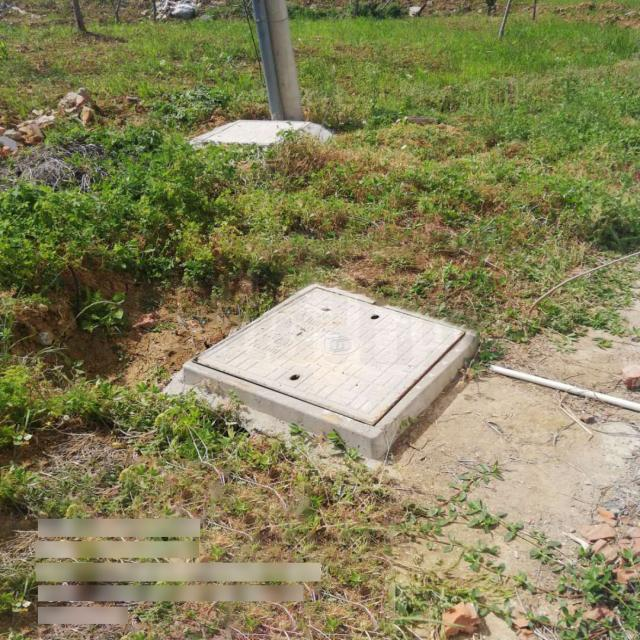Good: (182, 282, 479, 449)
